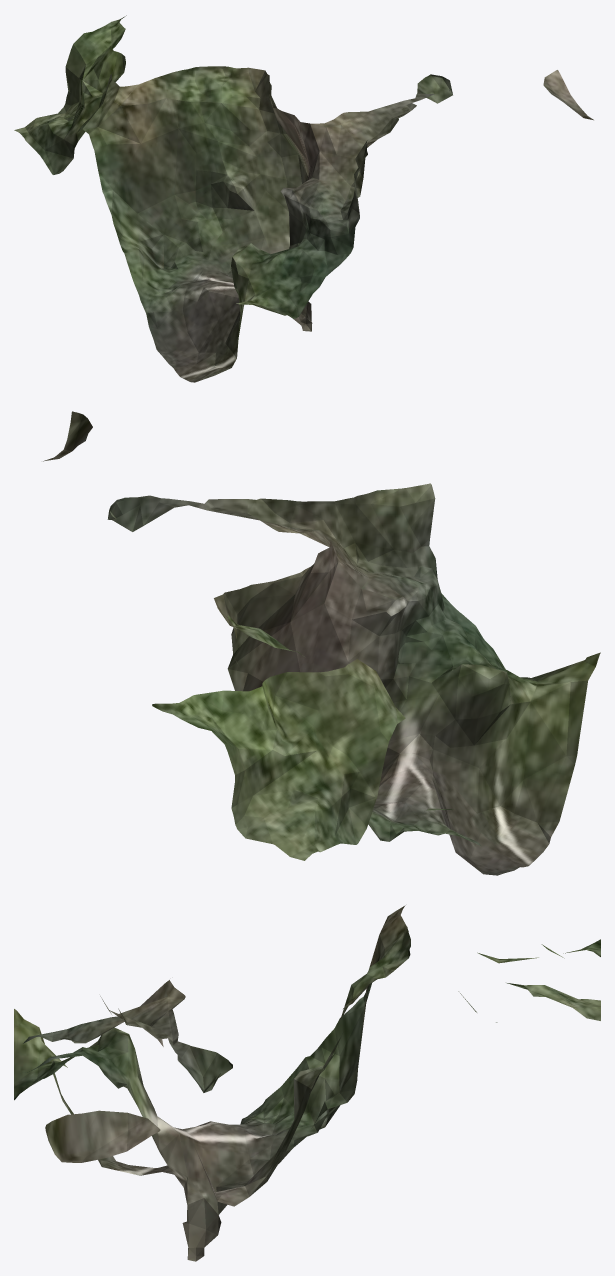
The picture shows the model from 3 angles, top to bottom: view 1: azimuth 30°, elevation 25°; view 2: azimuth 150°, elevation 25°; view 3: azimuth 270°, elevation 25°; orthographic projection. The views are drawn at different scales.
Bounding box in the file's own units: 5.9 × 3.17 × 5.9.
2 materials, 2 textured.
